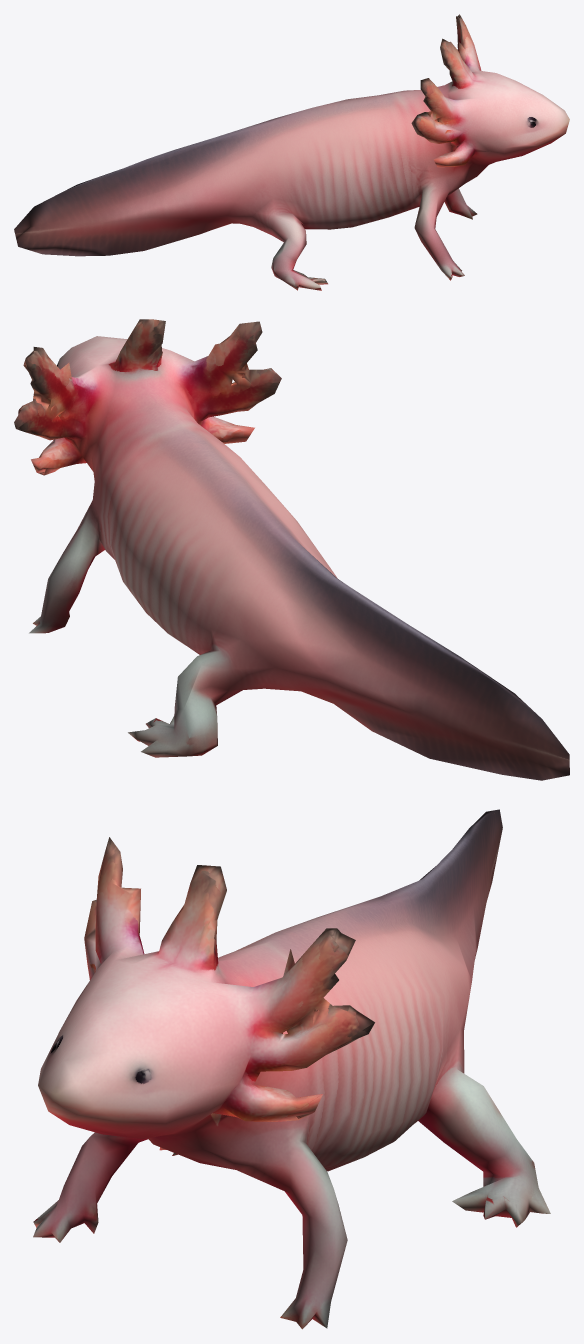
Rendered from axolotl_single_1500.glb.
3 renders of one model, top to bottom at view 1: azimuth 30°, elevation 25°; view 2: azimuth 150°, elevation 25°; view 3: azimuth 270°, elevation 25°, orthographic. The views are drawn at different scales.
Bounding box in the file's own units: 0.8426 × 0.391 × 0.4226.
1 material, 1 textured.
